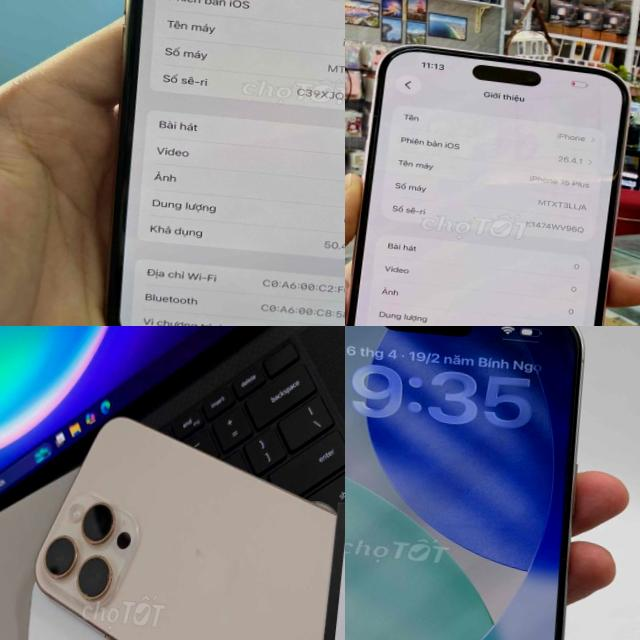gen_15: (345, 21, 640, 326)
gen_16: (16, 408, 345, 640)
gen_17: (345, 326, 614, 640)
gen_x_xs: (79, 0, 345, 326)
